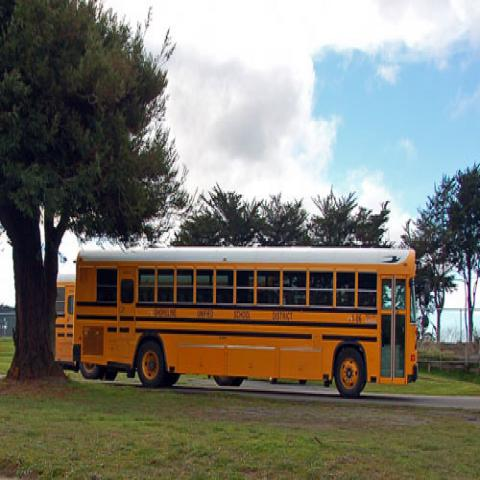bus: (77, 250, 420, 400), (56, 274, 102, 382)
